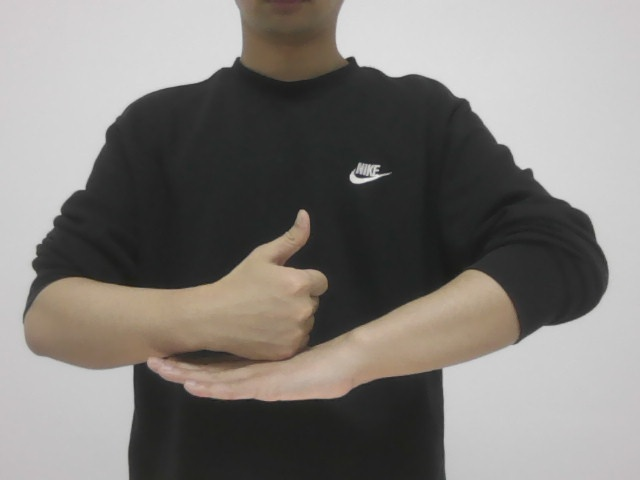new: (141, 205, 360, 411)
